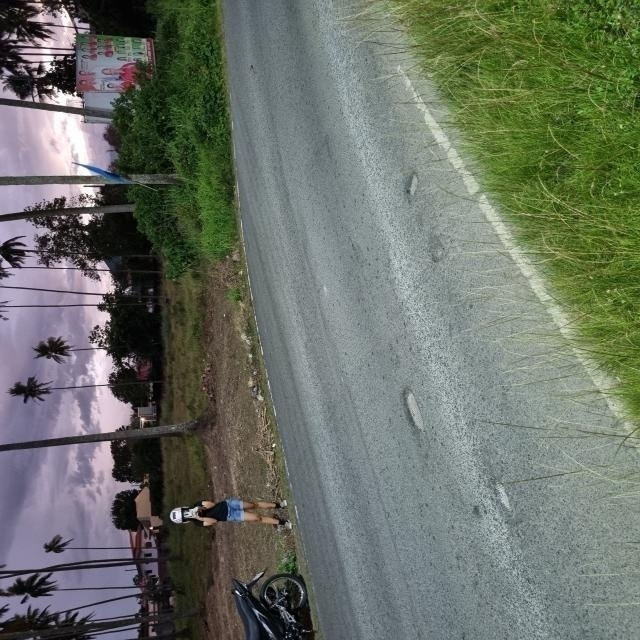pothole: (363, 372, 451, 454), (361, 148, 452, 212), (480, 472, 545, 522)
